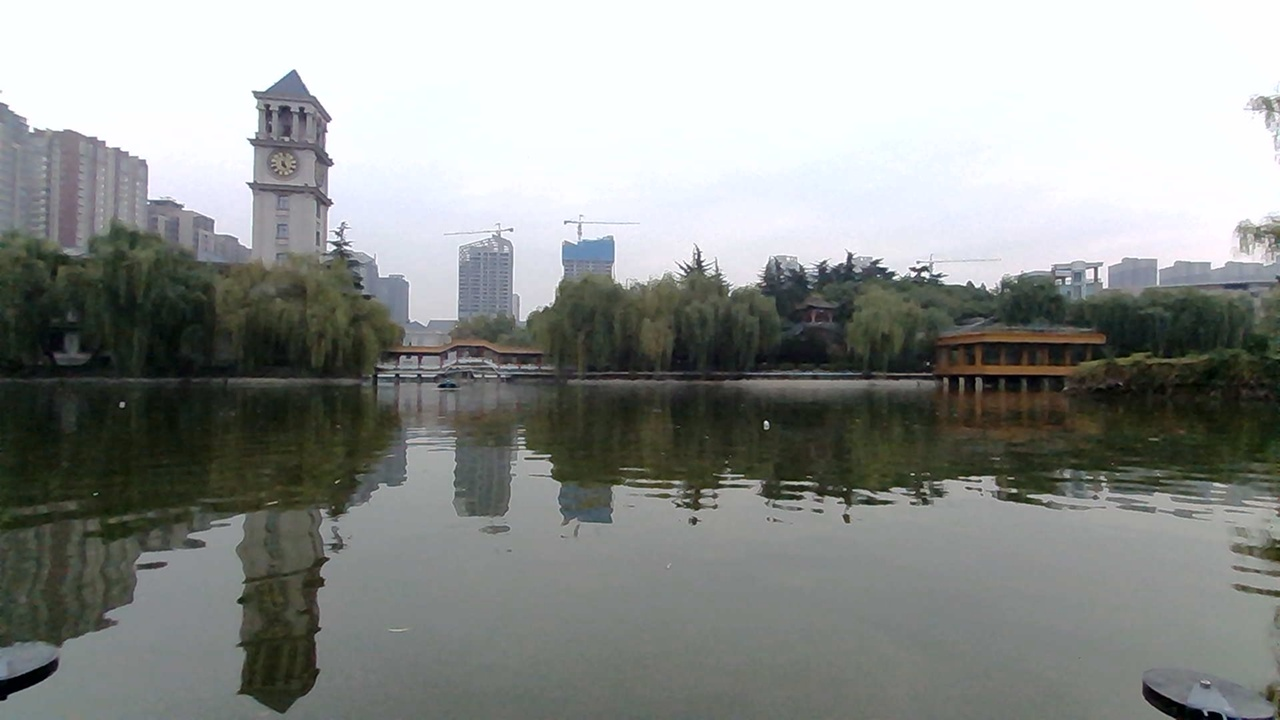bottle: (753, 410, 787, 435)
